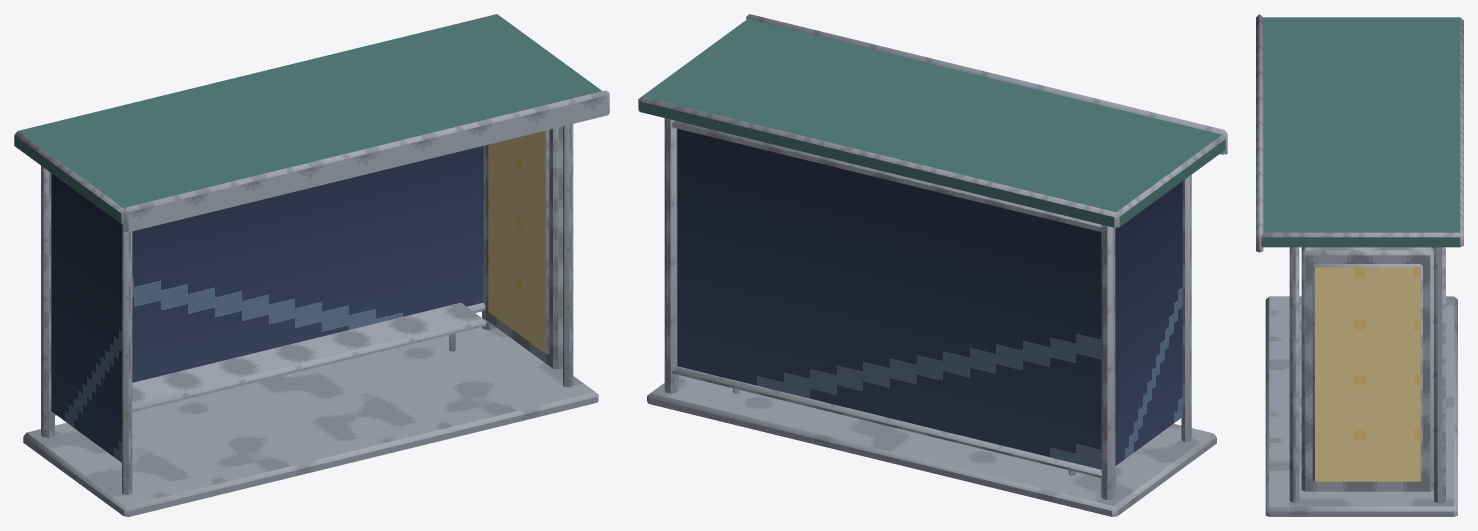
Rendered from bus_stop_1.glb.
The picture shows the model from 3 angles, left to right: view 1: azimuth 30°, elevation 25°; view 2: azimuth 150°, elevation 25°; view 3: azimuth 270°, elevation 25°; orthographic projection. The views are drawn at different scales.
Parts seen in each view (by area): view 1: bus_stop_2; view 2: bus_stop_2; view 3: bus_stop_2.
Part boxes in pixels (box(x1,y1,x2,y2)): bus_stop_2: box(14, 14, 609, 516); bus_stop_2: box(638, 14, 1227, 516); bus_stop_2: box(1256, 14, 1463, 516).
Size of the model in its own units: 4.3 by 2.65 by 1.73.
5 materials, 5 textured.
